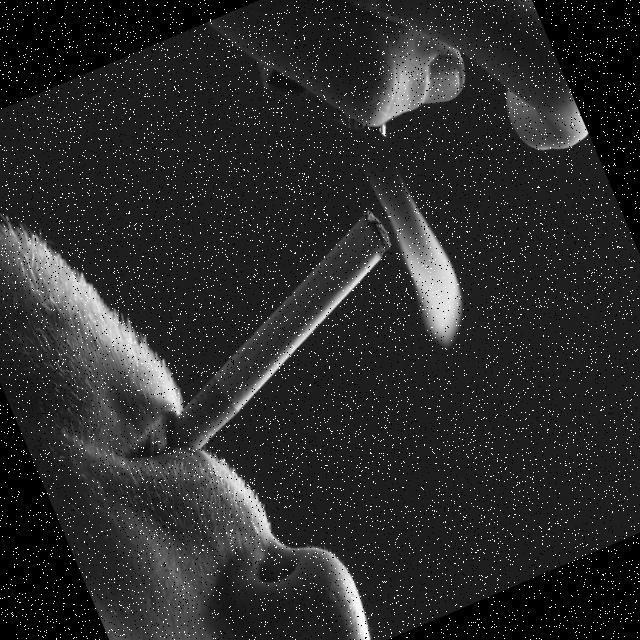cigarette: (124, 194, 443, 467)
